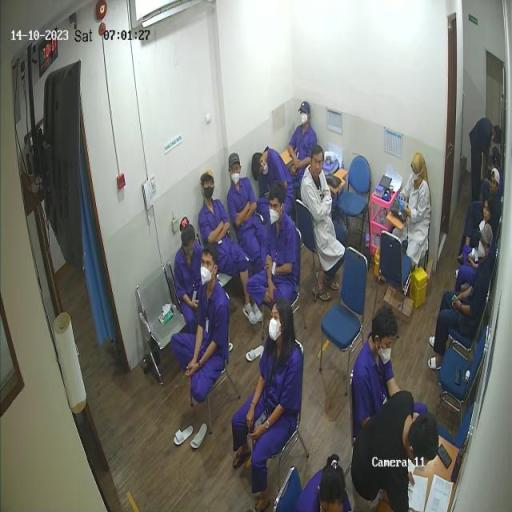person: (233, 297, 303, 512), (352, 307, 431, 451), (352, 391, 440, 512), (200, 172, 264, 331), (172, 244, 232, 407), (432, 223, 495, 377), (301, 146, 348, 302), (247, 180, 301, 313), (394, 153, 433, 291), (228, 153, 267, 274), (457, 199, 498, 303), (175, 220, 206, 335), (465, 168, 500, 266), (252, 147, 295, 224), (296, 456, 352, 512), (470, 119, 503, 204), (288, 103, 318, 196)
